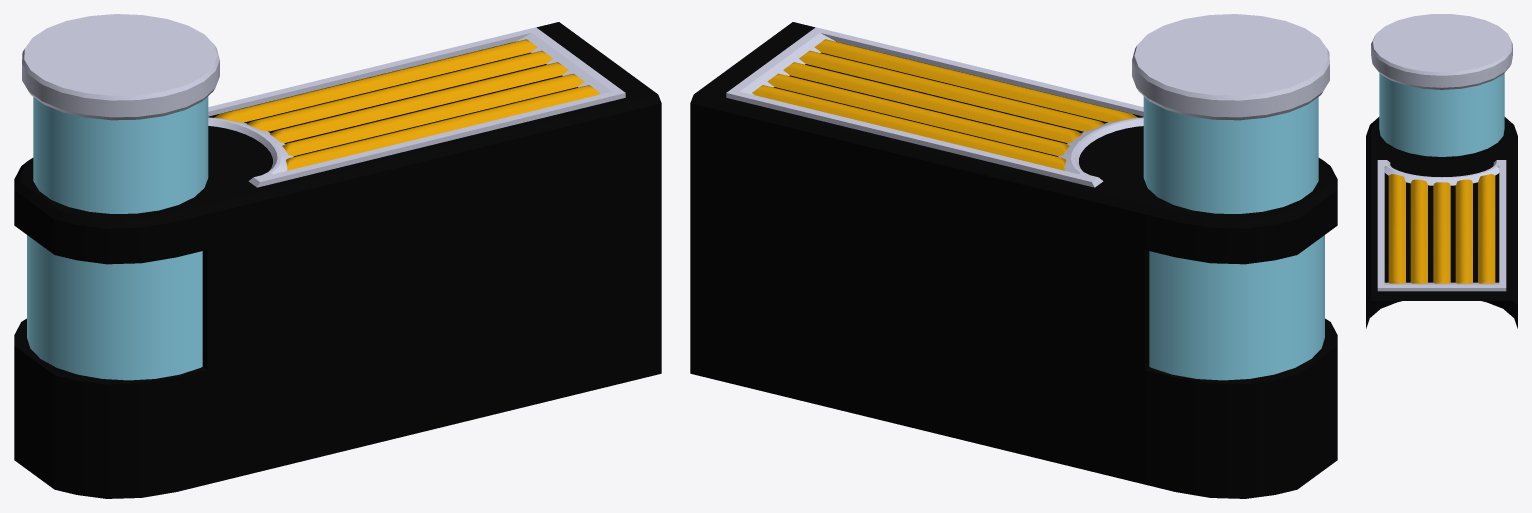
The model's file is WaterCool_Resivoir.fbx.
3 views of the same model, side by side, from view 1: azimuth 30°, elevation 25°; view 2: azimuth 150°, elevation 25°; view 3: azimuth 270°, elevation 25° (orthographic). The views are drawn at different scales.
Parts seen in each view (by area): view 1: Water_Resivoir_GEO; view 2: Water_Resivoir_GEO; view 3: Water_Resivoir_GEO.
Boxes of the visible parts, bbox=[...] form: Water_Resivoir_GEO: bbox=[14, 14, 661, 498]; Water_Resivoir_GEO: bbox=[690, 14, 1337, 498]; Water_Resivoir_GEO: bbox=[1366, 14, 1517, 328].
Size of the model in its own units: 1809 by 1201 by 579.
